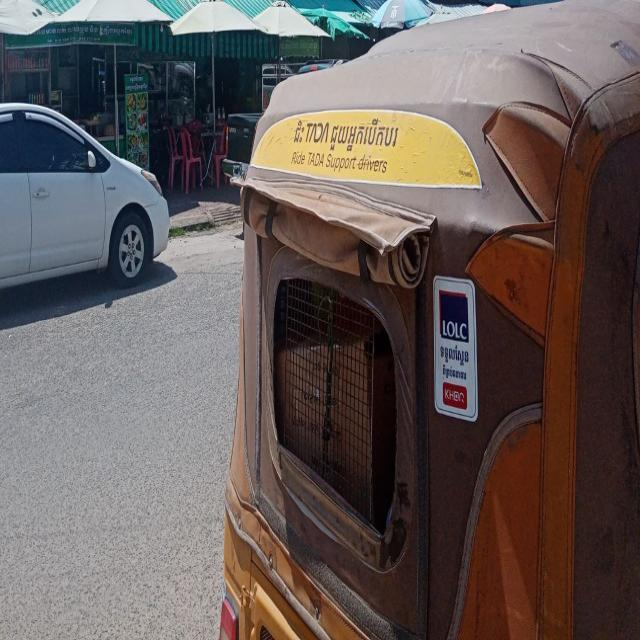Yolov11kh: (282, 111, 414, 164)
